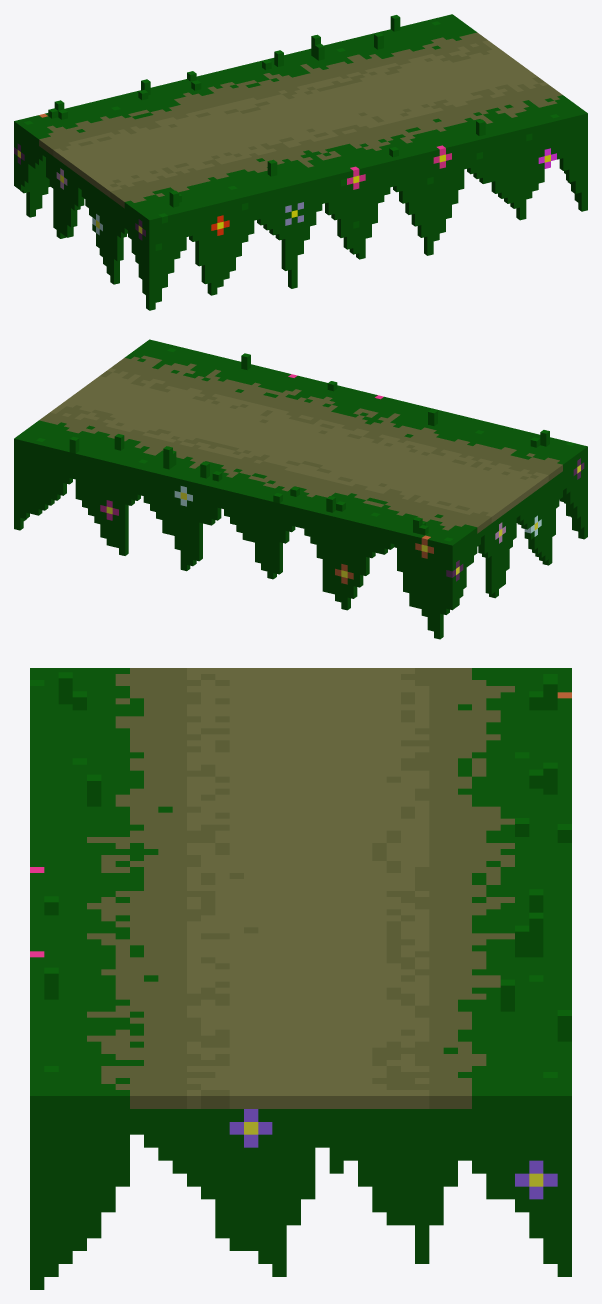
File: floor.obj
3 renders of one model, top to bottom at view 1: azimuth 30°, elevation 25°; view 2: azimuth 150°, elevation 25°; view 3: azimuth 270°, elevation 25°, orthographic. The views are drawn at different scales.
Bounding box in the file's own units: 7.1 × 1.9 × 3.8.
Materials: 1 (1 with a texture image).
